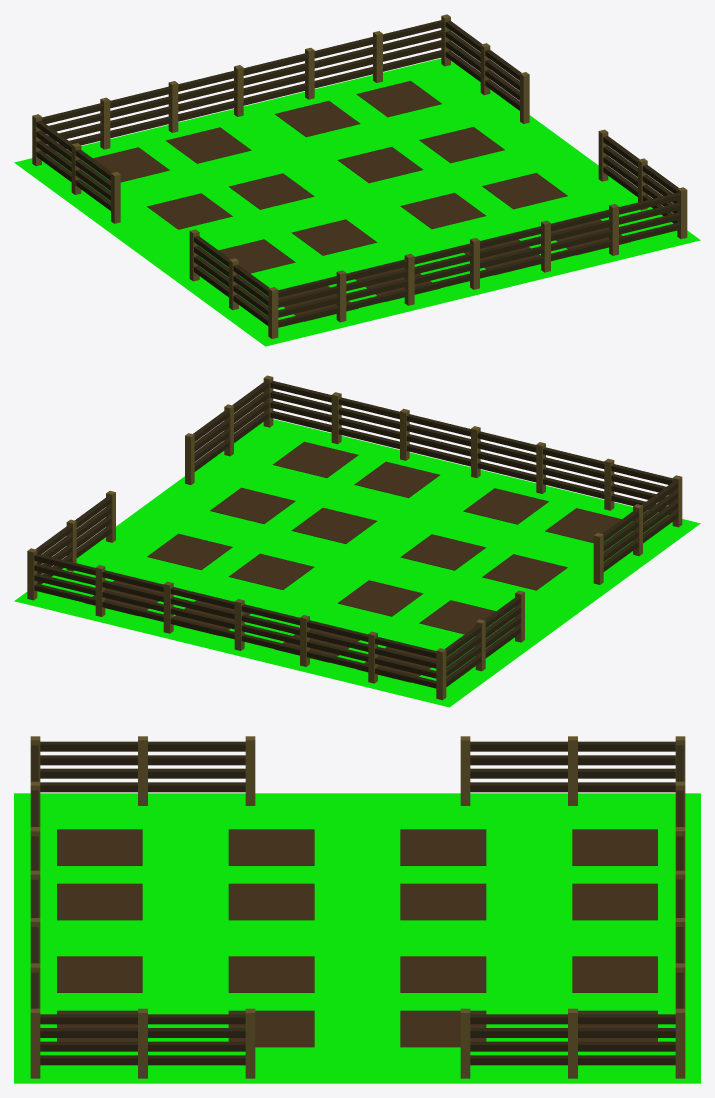
Rendered from Farm 1.fbx.
3 views of the same model, one above another, from view 1: azimuth 30°, elevation 25°; view 2: azimuth 150°, elevation 25°; view 3: azimuth 270°, elevation 25° (orthographic). The views are drawn at different scales.
Parts seen in each view (by area): view 1: Tile, Fence2, Farmland, Fence1; view 2: Tile, Fence2, Farmland, Fence1; view 3: Tile, Farmland, Fence2, Fence1.
Boxes of the visible parts, <box> form: Tile: <box>14,58,700,346</box>; Fence2: <box>36,20,680,327</box>; Farmland: <box>93,80,630,321</box>; Fence1: <box>32,14,687,338</box>; Tile: <box>14,419,700,707</box>; Fence2: <box>34,381,677,688</box>; Farmland: <box>84,441,621,682</box>; Fence1: <box>27,375,682,700</box>; Tile: <box>14,793,700,1083</box>; Farmland: <box>57,829,657,1047</box>; Fence2: <box>31,741,683,1065</box>; Fence1: <box>30,736,685,1078</box>.
Bounding box in the file's own units: 1600 × 170 × 1600.
